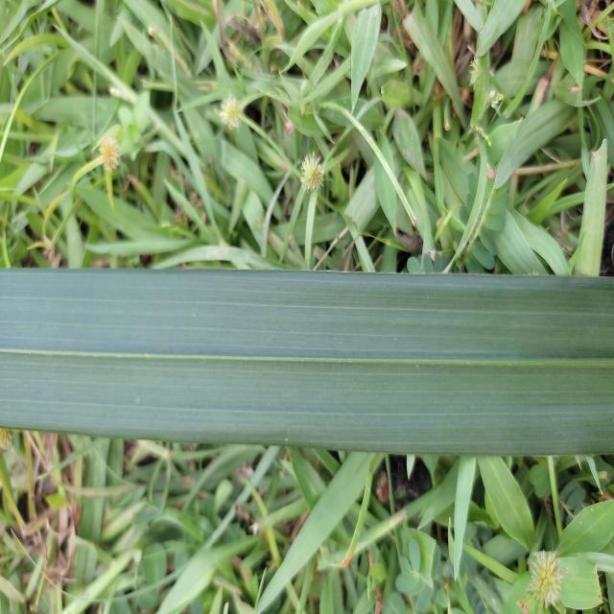Healthy: (0, 257, 614, 459)
